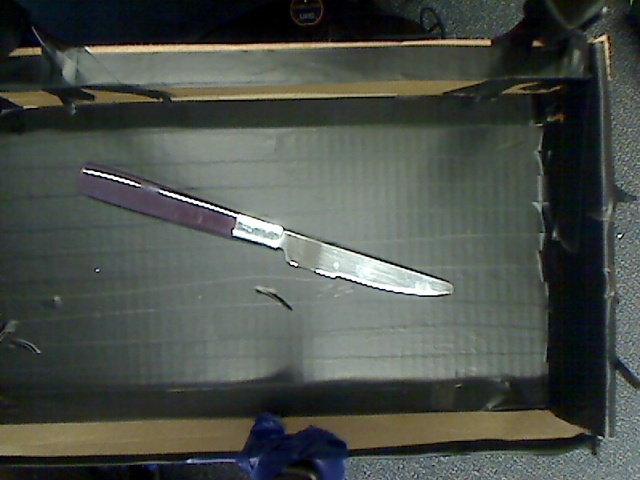knife: (56, 155, 490, 312)
